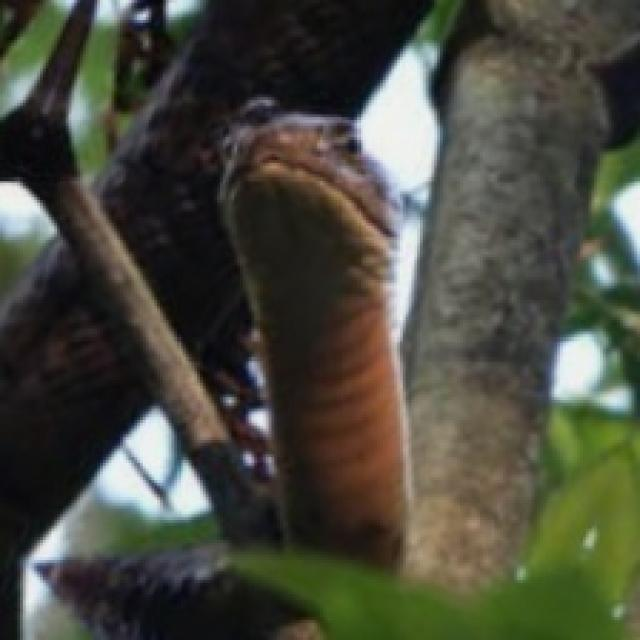king cobra: (220, 100, 403, 566), (43, 549, 303, 637)
